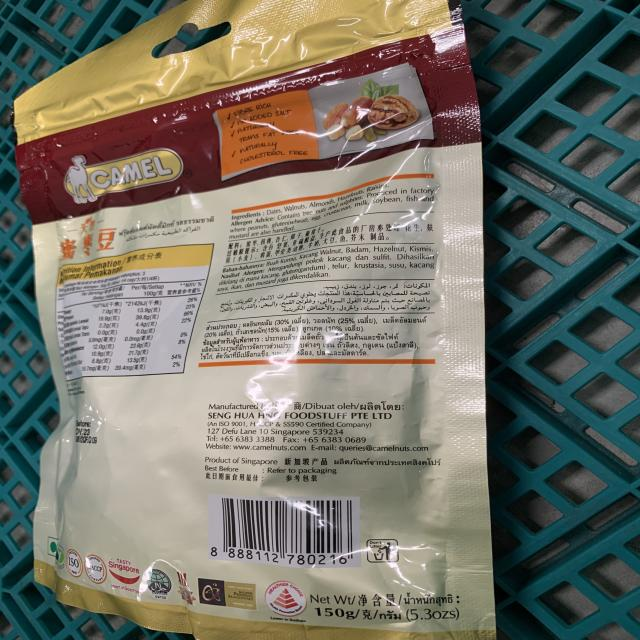object_name: (23, 17, 484, 636)
